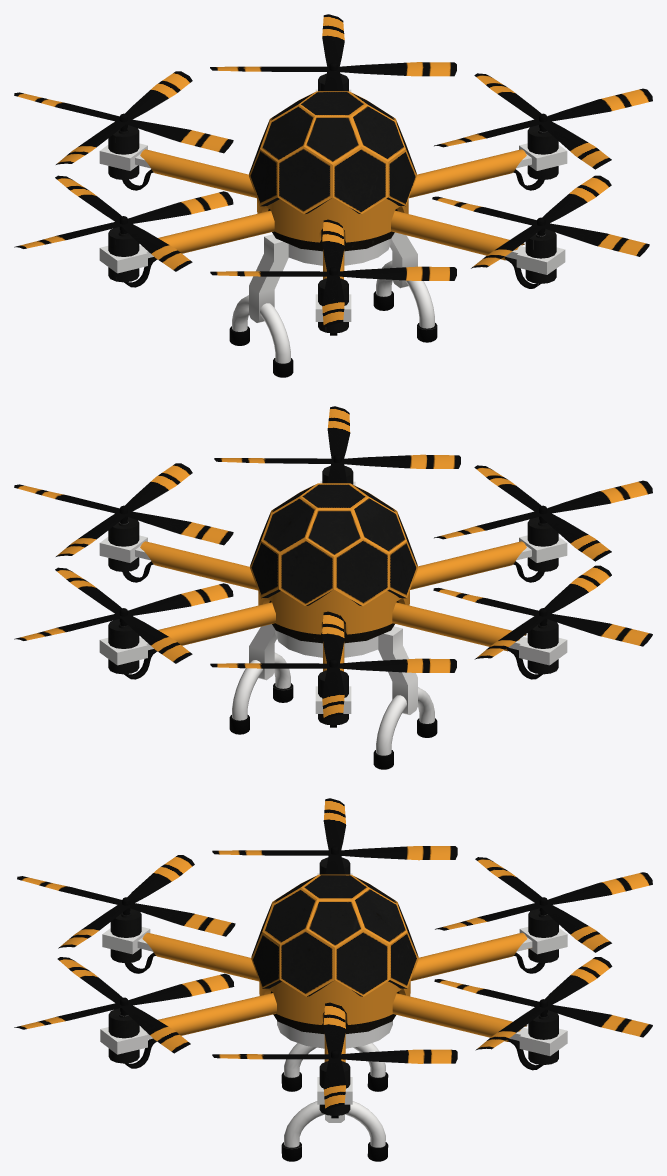
The model's file is Bumblebee_Drone.FBX.
3 views of the same model, one above another, from view 1: azimuth 30°, elevation 25°; view 2: azimuth 150°, elevation 25°; view 3: azimuth 270°, elevation 25° (orthographic).
Visible parts, largest first — view 1: BumbleBee, BumbleBee [Propeller] (3), BumbleBee [Propeller] (1), BumbleBee [Propeller] (4), BumbleBee [Propeller] (6), BumbleBee [Propeller] (5), BumbleBee [Propeller] (2); view 2: BumbleBee, BumbleBee [Propeller] (5), BumbleBee [Propeller] (1), BumbleBee [Propeller] (4), BumbleBee [Propeller] (2), BumbleBee [Propeller] (3), BumbleBee [Propeller] (6); view 3: BumbleBee, BumbleBee [Propeller] (3), BumbleBee [Propeller] (5), BumbleBee [Propeller] (2), BumbleBee [Propeller] (6), BumbleBee [Propeller] (1), BumbleBee [Propeller] (4).
Boxes of the visible parts, bbox=[...] form: BumbleBee: bbox=[99, 73, 567, 377]; BumbleBee [Propeller] (3): bbox=[14, 71, 233, 164]; BumbleBee [Propeller] (1): bbox=[434, 73, 652, 169]; BumbleBee [Propeller] (4): bbox=[14, 175, 233, 271]; BumbleBee [Propeller] (6): bbox=[432, 175, 649, 268]; BumbleBee [Propeller] (5): bbox=[210, 219, 456, 327]; BumbleBee [Propeller] (2): bbox=[210, 14, 456, 91]; BumbleBee: bbox=[99, 465, 567, 769]; BumbleBee [Propeller] (5): bbox=[434, 465, 652, 561]; BumbleBee [Propeller] (1): bbox=[14, 463, 233, 556]; BumbleBee [Propeller] (4): bbox=[433, 565, 652, 659]; BumbleBee [Propeller] (2): bbox=[14, 567, 233, 663]; BumbleBee [Propeller] (3): bbox=[210, 611, 456, 719]; BumbleBee [Propeller] (6): bbox=[214, 406, 460, 483]; BumbleBee: bbox=[100, 857, 567, 1161]; BumbleBee [Propeller] (3): bbox=[435, 857, 652, 952]; BumbleBee [Propeller] (5): bbox=[17, 855, 235, 948]; BumbleBee [Propeller] (2): bbox=[434, 957, 652, 1050]; BumbleBee [Propeller] (6): bbox=[14, 957, 234, 1053]; BumbleBee [Propeller] (1): bbox=[212, 1002, 457, 1110]; BumbleBee [Propeller] (4): bbox=[212, 798, 457, 874].
Bounding box in the file's own units: 975 × 349 × 857.
Materials: 1 (1 with a texture image).
